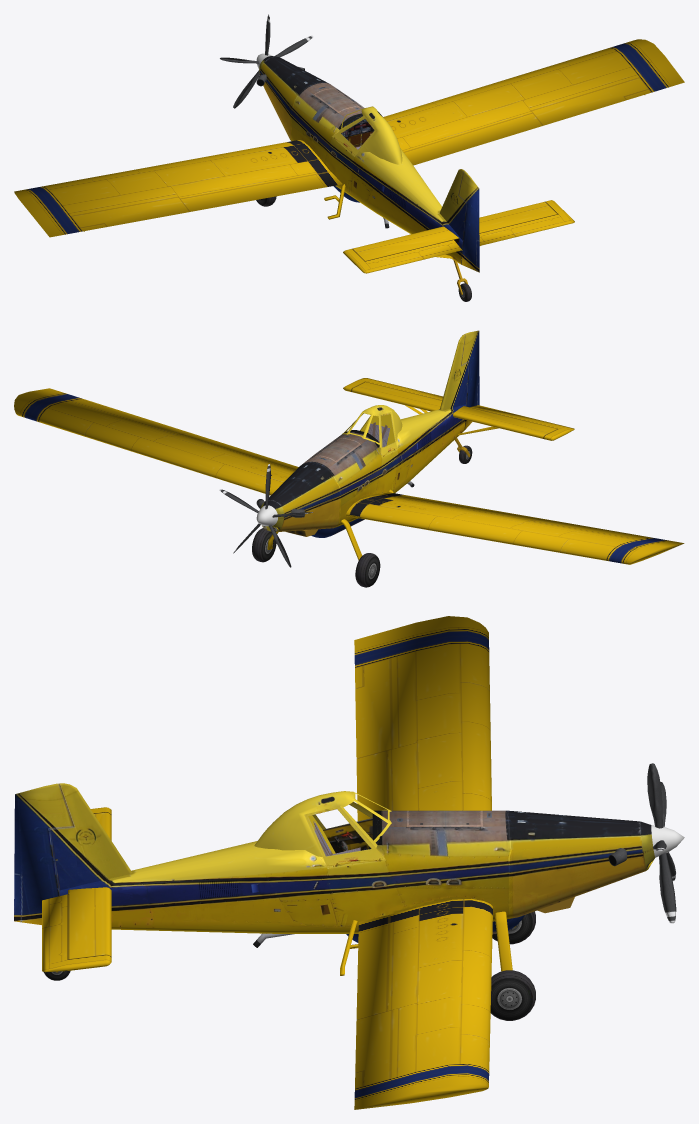
File: Air-Tractor-AT-802-cbj_LOD00.gltf
3 renders of one model, top to bottom at view 1: azimuth 30°, elevation 25°; view 2: azimuth 150°, elevation 25°; view 3: azimuth 270°, elevation 25°, orthographic. The views are drawn at different scales.
Parts seen in each view (by area): view 1: fuselage; view 2: fuselage; view 3: fuselage.
Boxes of the visible parts, box(x1,y1,x2,y2) form: fuselage: box(14, 14, 684, 301); fuselage: box(14, 330, 684, 587); fuselage: box(14, 616, 684, 1109).
Size of what is drawn, in the model's own units: 18.11 by 3.91 by 10.91.
